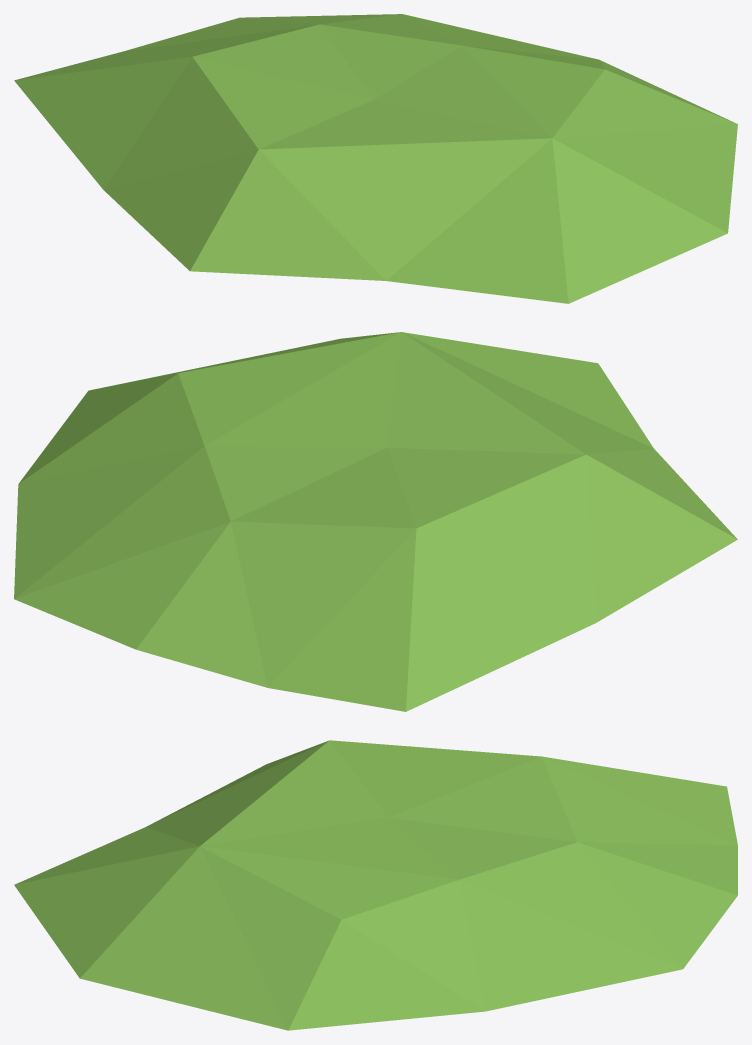
File: MT_Mountain_S_b_05.fbx
3 renders of one model, top to bottom at view 1: azimuth 30°, elevation 25°; view 2: azimuth 150°, elevation 25°; view 3: azimuth 270°, elevation 25°, orthographic. The views are drawn at different scales.
Parts seen in each view (by area): view 1: MT_Mountain_S_b_05; view 2: MT_Mountain_S_b_05; view 3: MT_Mountain_S_b_05.
Part boxes in pixels (x1=…): MT_Mountain_S_b_05: x1=14, y1=14, x2=737, y2=303; MT_Mountain_S_b_05: x1=14, y1=332, x2=737, y2=711; MT_Mountain_S_b_05: x1=14, y1=740, x2=737, y2=1030.
Size of the model in its own units: 1335 by 179 by 1519.
